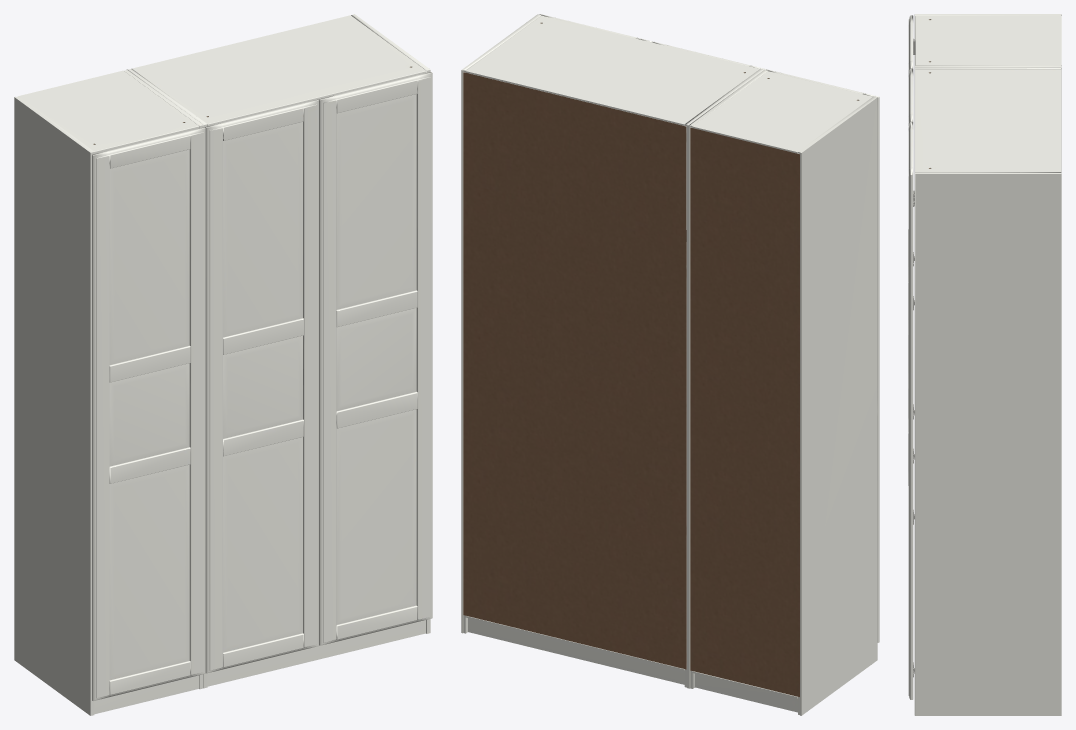
File: pax_tyssedal_kombinacja_szafy_59429735.glb
3 views of the same model, side by side, from view 1: azimuth 30°, elevation 25°; view 2: azimuth 150°, elevation 25°; view 3: azimuth 270°, elevation 25° (orthographic). The views are drawn at different scales.
Parts seen in each view (by area): view 1: pax_tyssedal_kombinacja_szafy_59429735; view 2: pax_tyssedal_kombinacja_szafy_59429735; view 3: pax_tyssedal_kombinacja_szafy_59429735.
Boxes of the visible parts, x1=… form: pax_tyssedal_kombinacja_szafy_59429735: x1=14, y1=14, x2=432, y2=715; pax_tyssedal_kombinacja_szafy_59429735: x1=461, y1=14, x2=879, y2=715; pax_tyssedal_kombinacja_szafy_59429735: x1=908, y1=14, x2=1061, y2=715.
Size of the model in its own units: 1.5 by 2.36 by 0.6054.
1 material, 1 textured.
